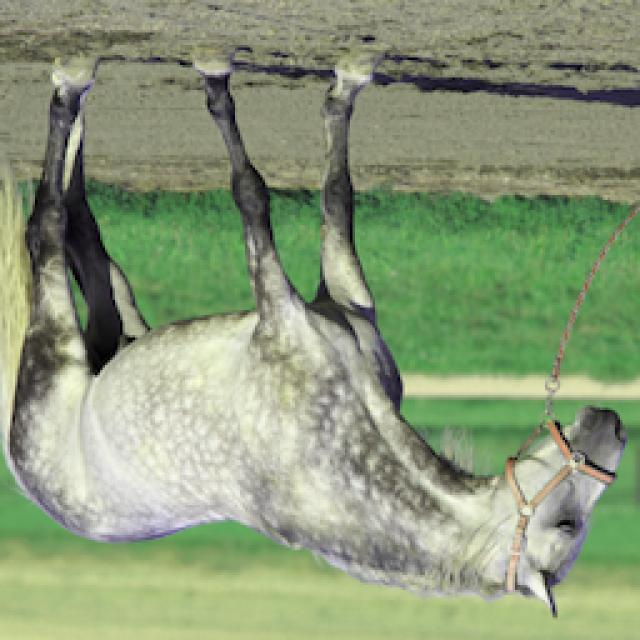Horse: (0, 42, 638, 622)
